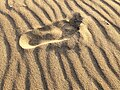human_footprint: (19, 12, 82, 48)
